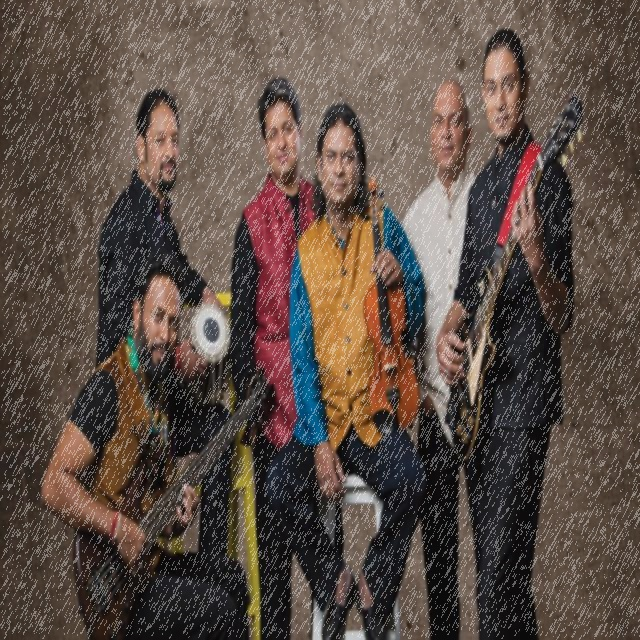pessoa: (263, 102, 426, 638), (434, 26, 576, 638), (40, 252, 252, 638), (92, 84, 238, 561), (400, 79, 492, 638), (228, 72, 318, 638)
